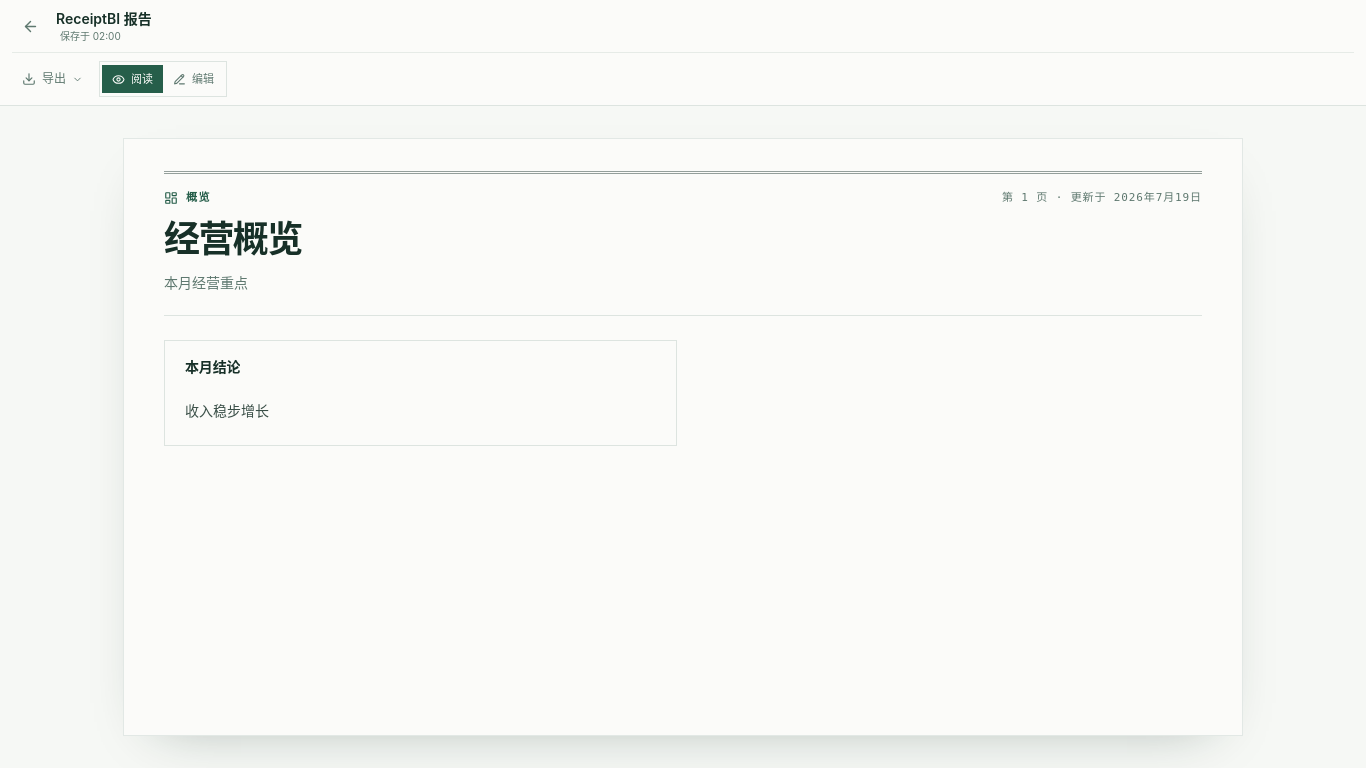
ReportWorkspace › keeps compact editor drawers mutually exclusive and out of document flow
Expected: the text "收入稳步增长" is shown, left=185, top=402, right=269, bottom=418
Step 1. Click the button with aria-label "编辑报告" → x=194, y=79, box left=163, top=65, right=224, bottom=93
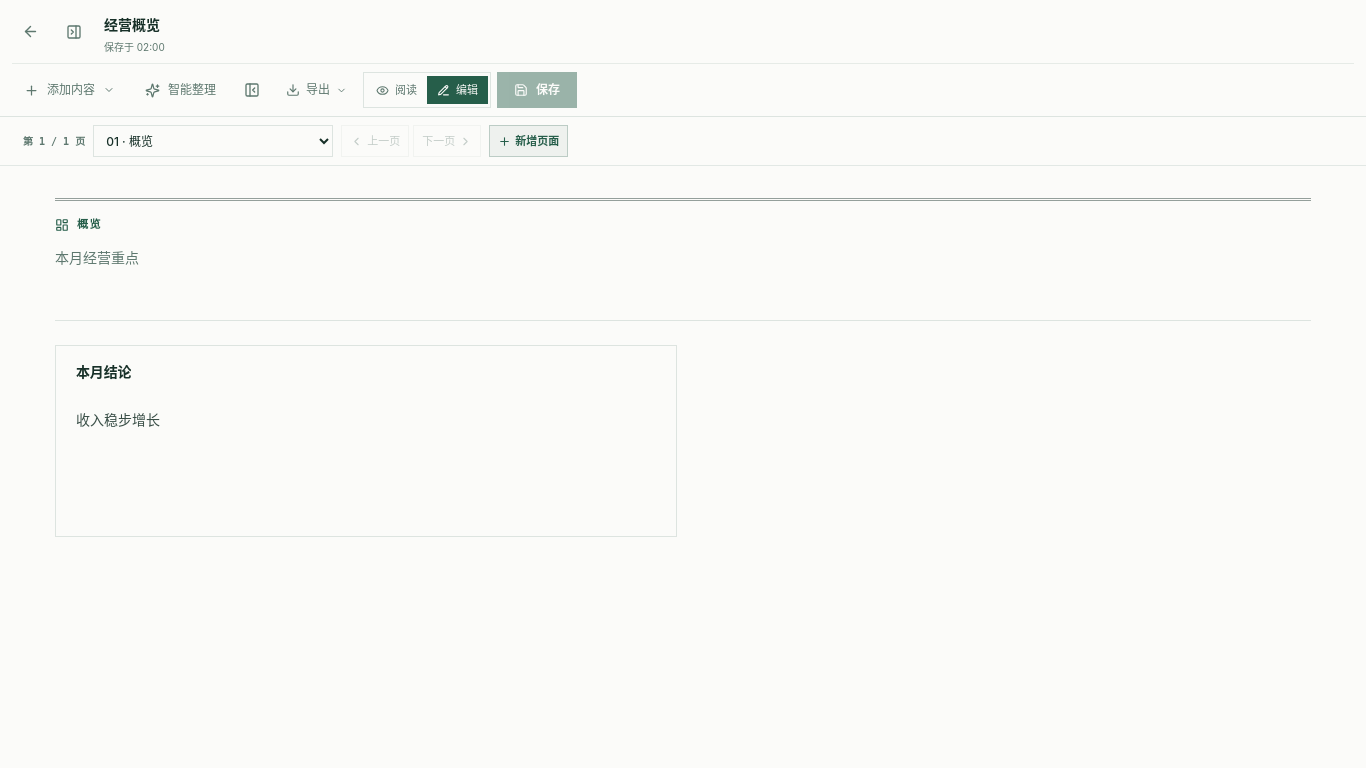
Step 2. Click the button named "展开页面目录" → x=74, y=32, box left=56, top=14, right=92, bottom=50
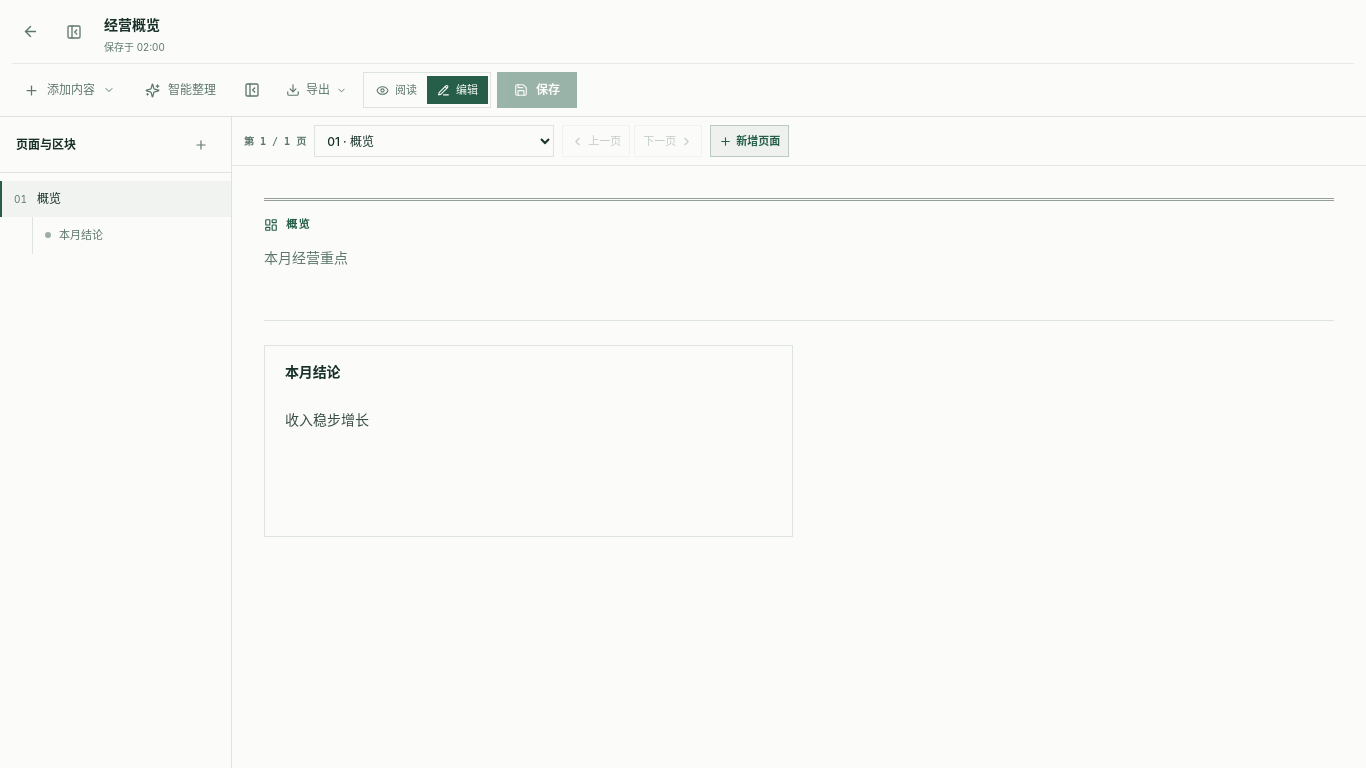
Step 3. Click the button named "展开设置" → x=252, y=90, box left=234, top=72, right=270, bottom=108
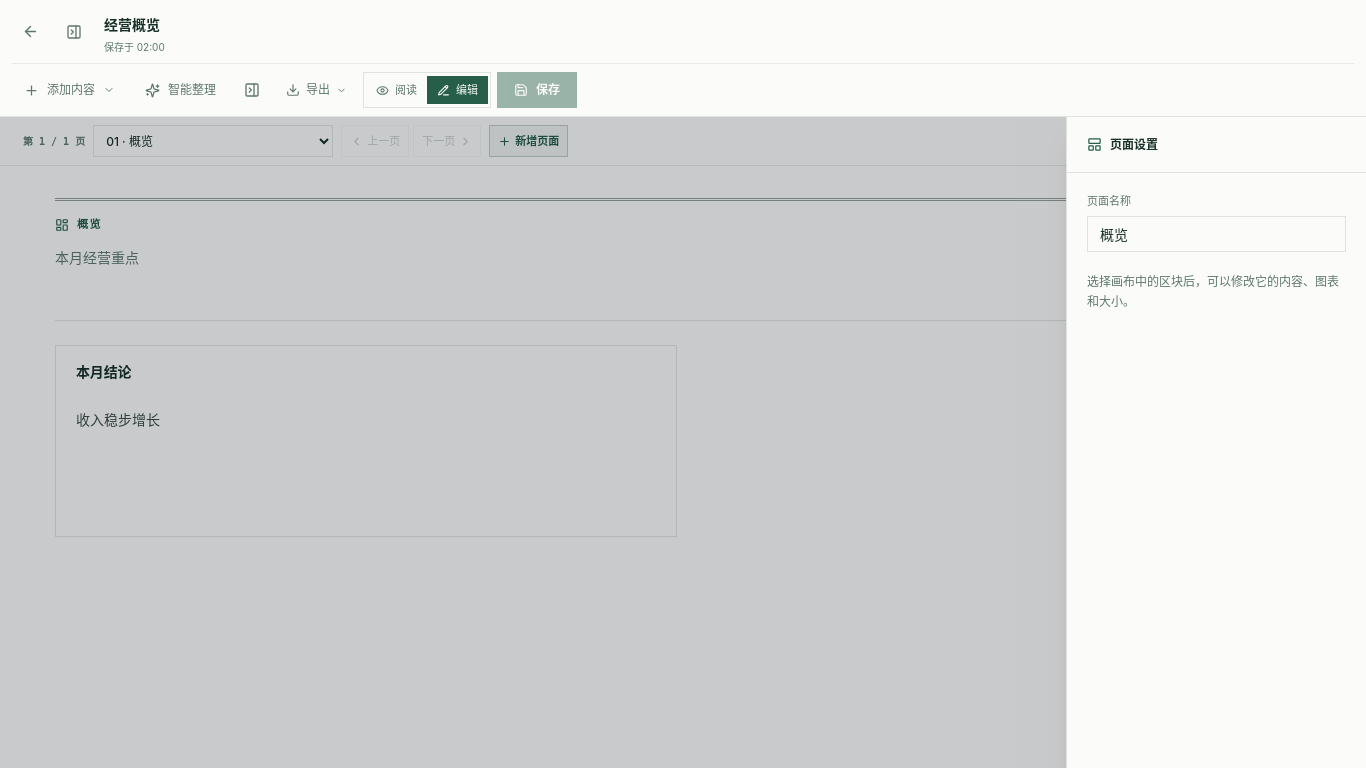
Expected: the heading "页面与区块" is gone
